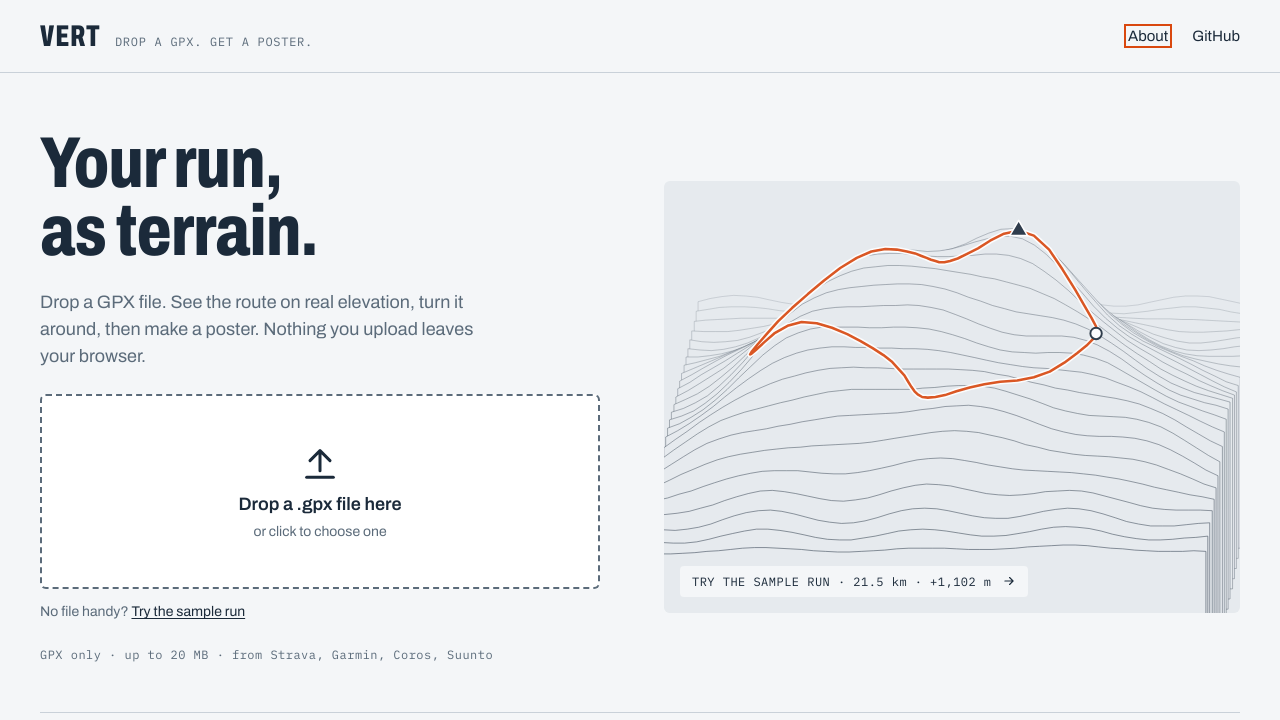
Scenario: AboutDialog › opens as a modal with its content and moves focus into it
Click the button "About" at point(1148, 36), box [1128, 28, 1168, 44]
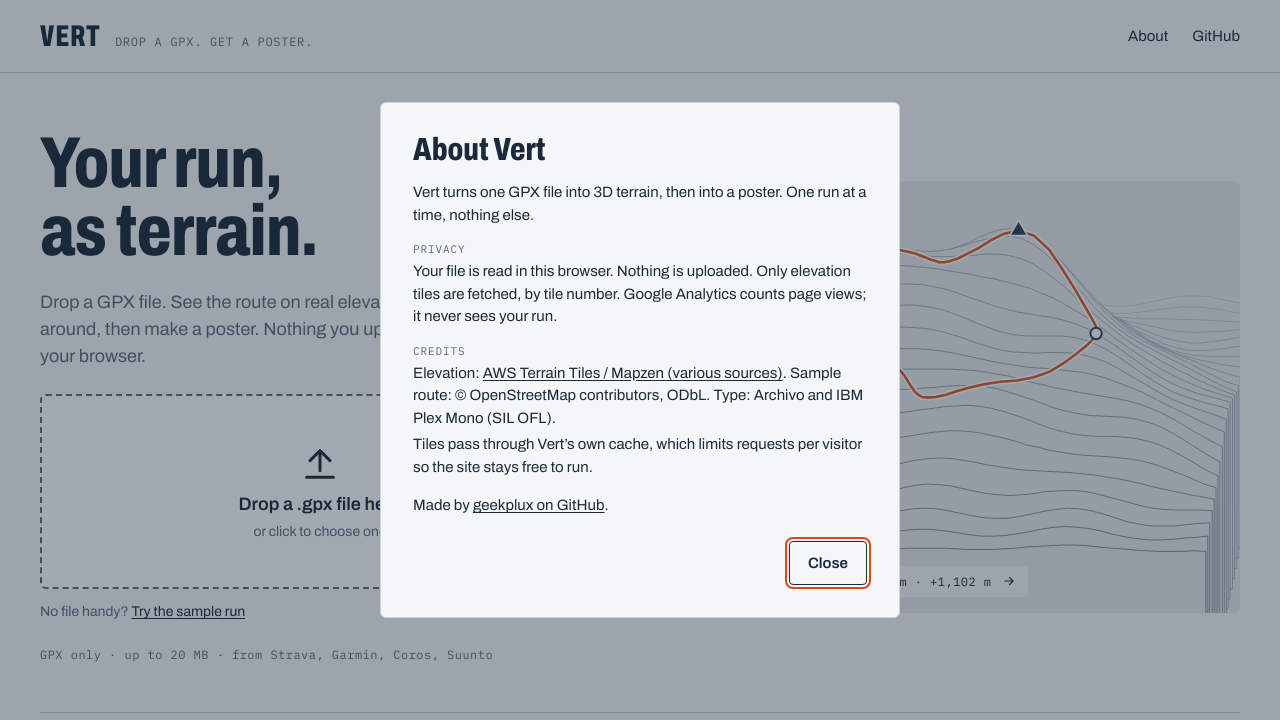
Expected: the dialog "About Vert" shows "one GPX file into 3D terrain, then into a poster", [413, 184, 866, 223]
Expected: the dialog "About Vert" shows "Your file is read in this browser. Nothing is uploaded. Only elevation tiles are fetched, by tile number. Google Analytics counts page views; it never sees your", [413, 263, 867, 324]
Expected: the dialog "About Vert" shows "Sample route: © OpenStreetMap contributors, ODbL.", [413, 365, 863, 426]
